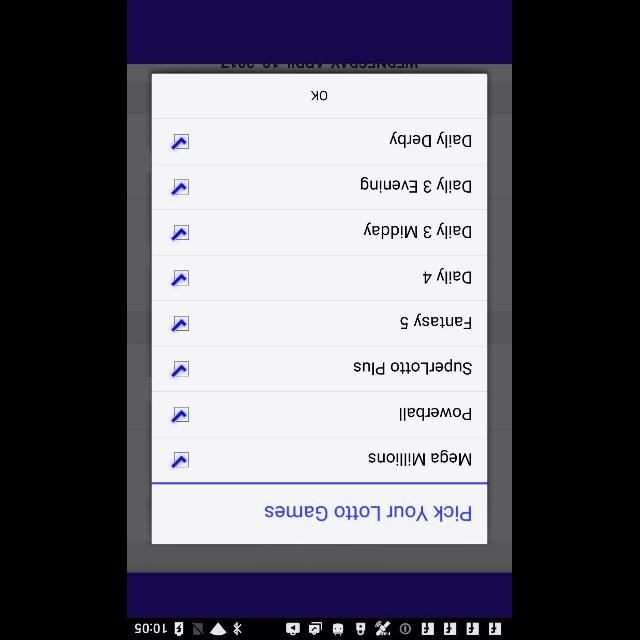checkbox: (172, 452, 190, 470), (172, 407, 190, 423), (172, 361, 190, 377), (172, 316, 190, 332), (172, 271, 190, 287), (172, 225, 190, 241), (172, 179, 190, 195), (172, 134, 190, 150)
panel: (152, 73, 488, 544)
text: (266, 506, 472, 522), (353, 358, 472, 376), (362, 176, 472, 194), (364, 222, 472, 240), (368, 449, 472, 466), (390, 131, 472, 149), (401, 312, 472, 330), (400, 407, 472, 421), (423, 267, 472, 285)
textbutton: (152, 73, 488, 117)
uppertaskbar: (128, 617, 512, 639)
